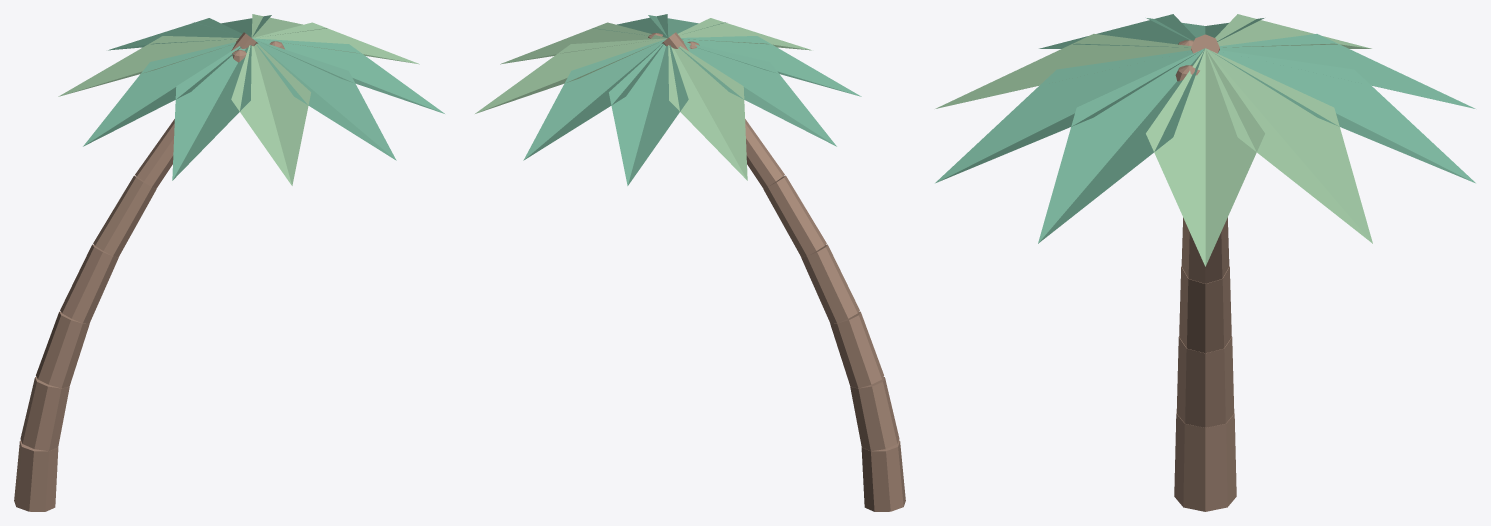
File: palm.glb
3 renders of one model, left to right at view 1: azimuth 30°, elevation 25°; view 2: azimuth 150°, elevation 25°; view 3: azimuth 270°, elevation 25°, orthographic. The views are drawn at different scales.
Visible parts, largest first — view 1: palm; view 2: palm; view 3: palm.
Boxes of the visible parts, bbox=[...] form: palm: bbox=[14, 14, 444, 511]; palm: bbox=[475, 14, 905, 511]; palm: bbox=[935, 14, 1475, 511].
Bounding box in the file's own units: 5.02 × 4.99 × 3.99.
